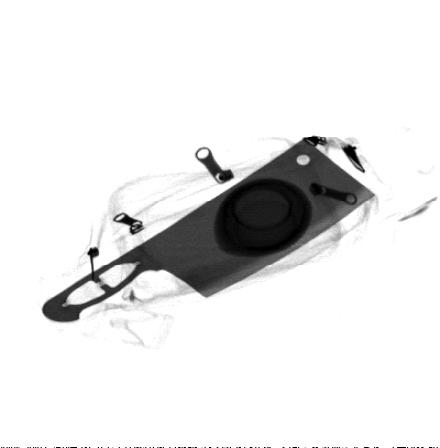Knife: (38, 138, 379, 324)
